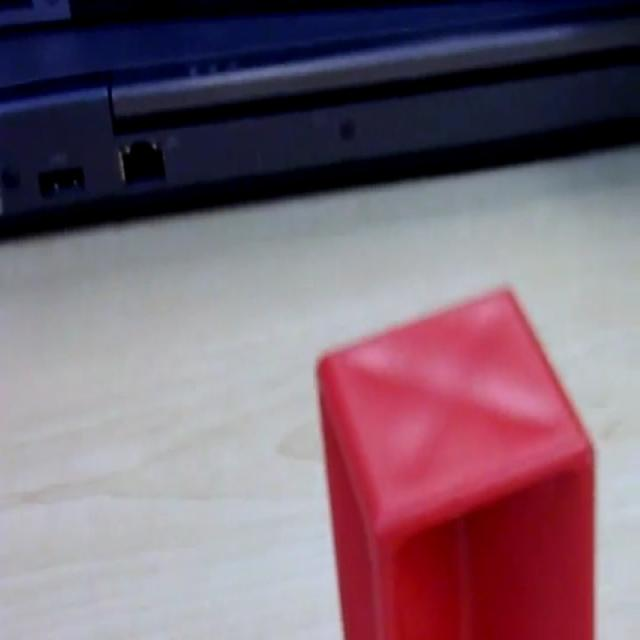red_block: (314, 282, 598, 638)
